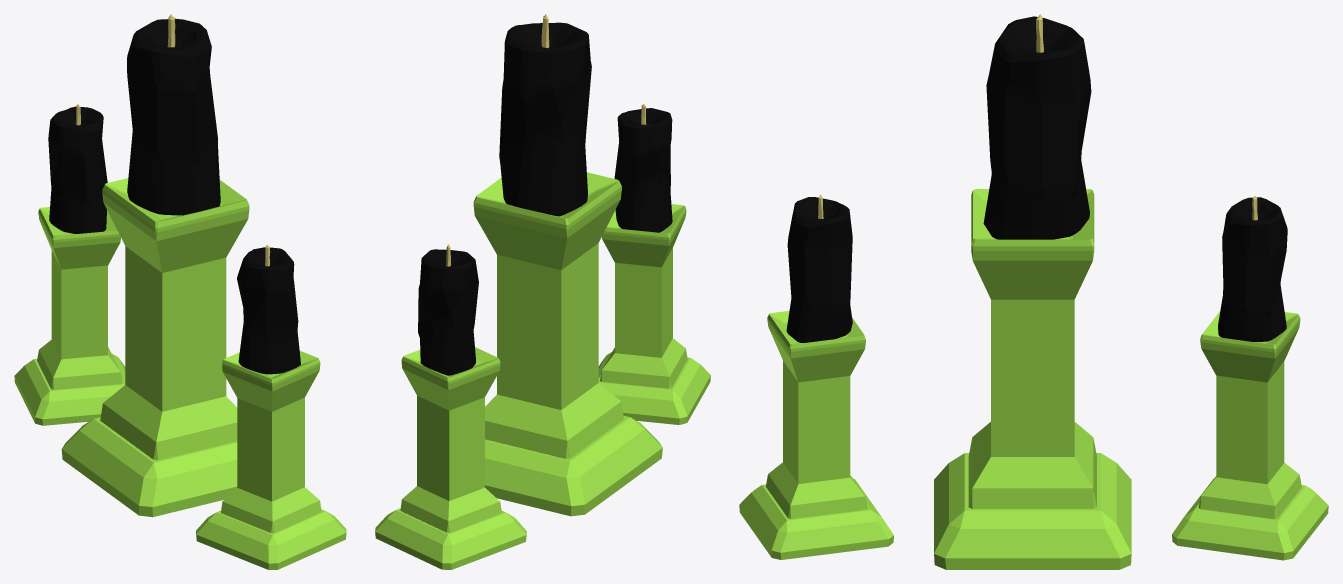
The model's file is świecznik.fbx.
3 renders of one model, left to right at view 1: azimuth 30°, elevation 25°; view 2: azimuth 150°, elevation 25°; view 3: azimuth 270°, elevation 25°, orthographic. The views are drawn at different scales.
Parts seen in each view (by area): view 1: Cube.001; view 2: Cube.001; view 3: Cube.001.
Boxes of the visible parts, <box> form: Cube.001: <box>14,14,346,569</box>; Cube.001: <box>375,14,710,569</box>; Cube.001: <box>739,14,1328,569</box>.
Bounding box in the file's own units: 472 × 1355 × 1409.
